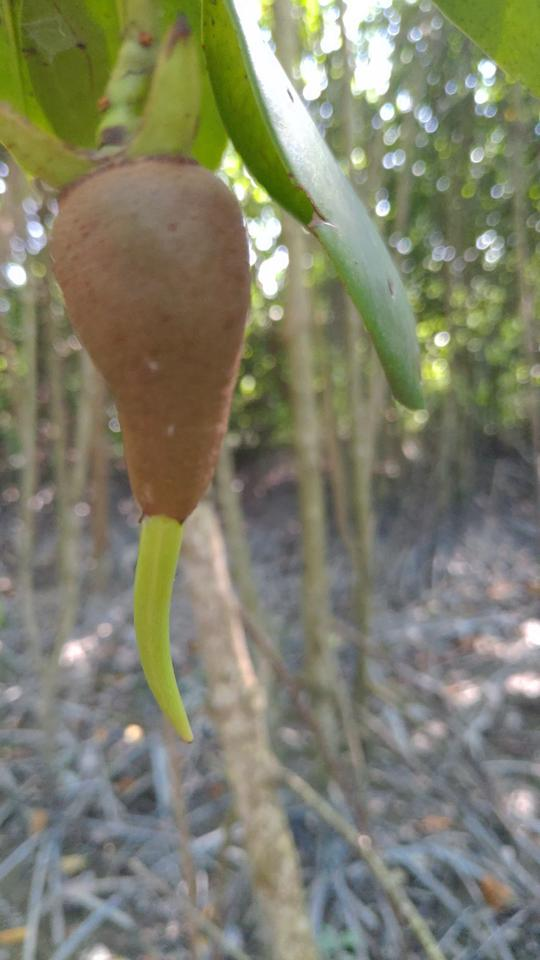mentah: (1, 47, 263, 775)
